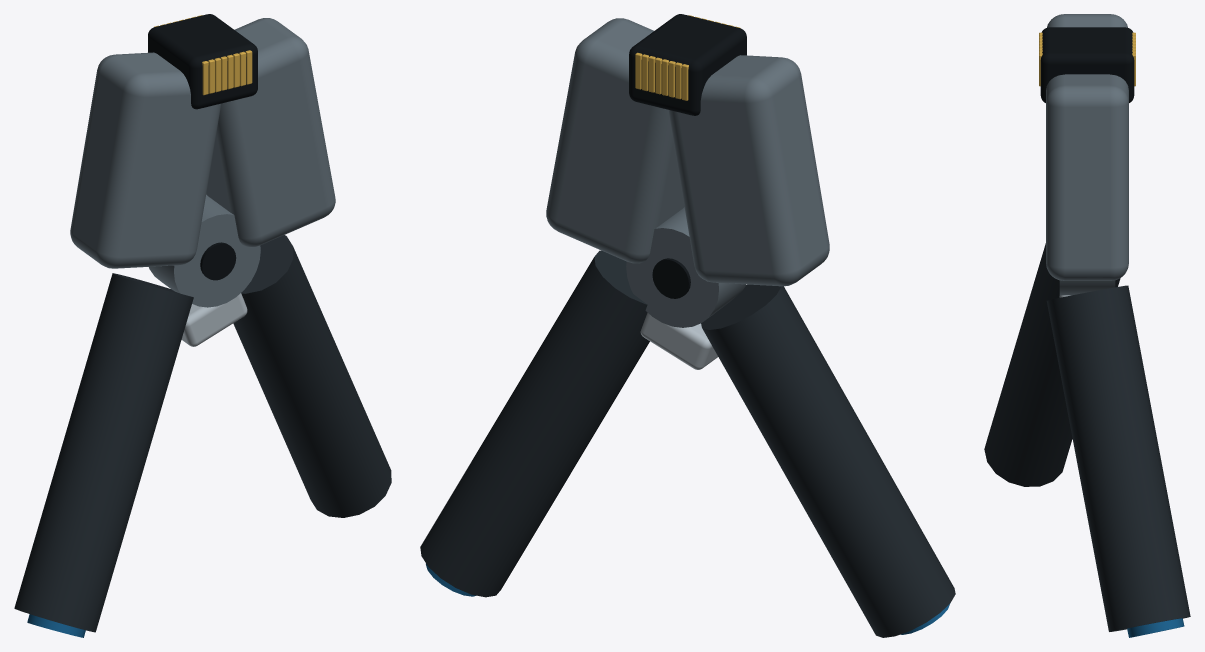
File: ethernet-crimping-tool.glb
The picture shows the model from 3 angles, left to right: view 1: azimuth 30°, elevation 25°; view 2: azimuth 150°, elevation 25°; view 3: azimuth 270°, elevation 25°; orthographic projection. The views are drawn at different scales.
Visible parts, largest first — view 1: Professional ratcheting Ethernet crimper, RJ45 crimp jaw (×2), RJ45 die, Crimper pivot, Ratcheting release; view 2: Professional ratcheting Ethernet crimper, RJ45 crimp jaw (×2), RJ45 die, Crimper pivot, Ratcheting release; view 3: Professional ratcheting Ethernet crimper, RJ45 crimp jaw (×2), RJ45 die, Crimper pivot.
Part boxes in pixels (box(x1,y1,x2,y2)): Professional ratcheting Ethernet crimper: box(14, 235, 391, 637); RJ45 crimp jaw (×2): box(70, 18, 335, 268); RJ45 die: box(148, 14, 257, 109); Crimper pivot: box(149, 194, 260, 307); Ratcheting release: box(181, 293, 247, 346); Professional ratcheting Ethernet crimper: box(420, 250, 955, 637); RJ45 crimp jaw (×2): box(546, 18, 829, 286); RJ45 die: box(629, 14, 746, 115); Crimper pivot: box(626, 207, 745, 327); Ratcheting release: box(640, 312, 717, 369); Professional ratcheting Ethernet crimper: box(984, 243, 1190, 637); RJ45 crimp jaw (×2): box(1046, 14, 1128, 280); RJ45 die: box(1040, 27, 1134, 102); Crimper pivot: box(1059, 280, 1115, 295).
Bounding box in the file's own units: 1.38 × 1.65 × 0.5958.
